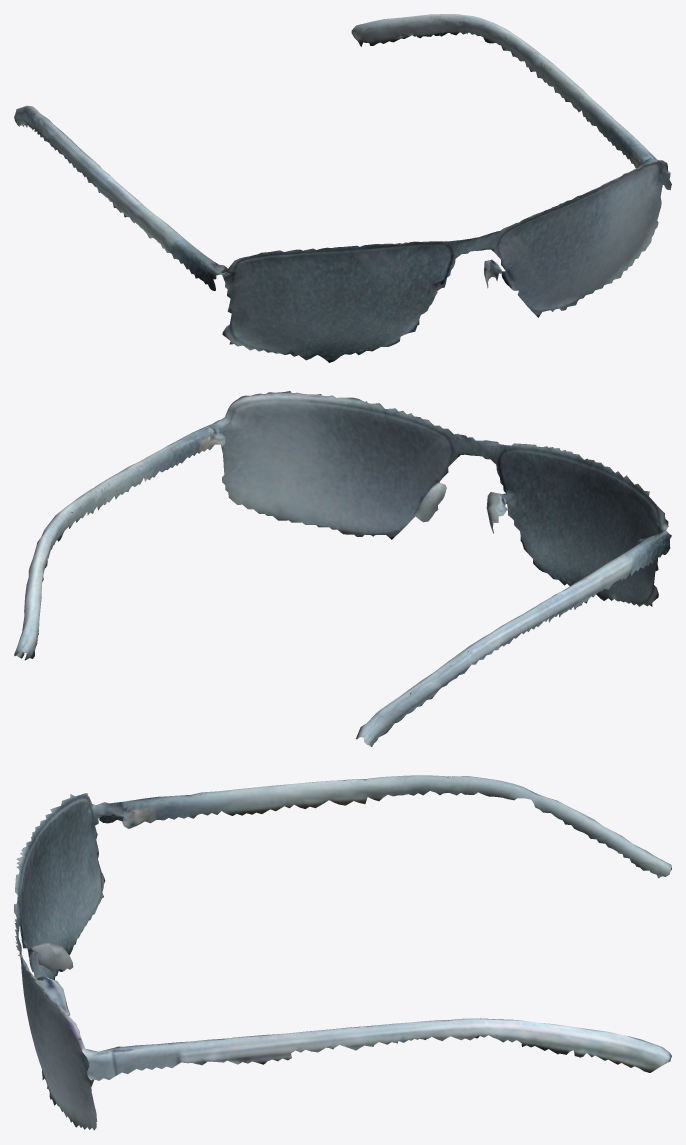
File: scan_align.obj
3 renders of one model, top to bottom at view 1: azimuth 30°, elevation 25°; view 2: azimuth 150°, elevation 25°; view 3: azimuth 270°, elevation 25°, orthographic. The views are drawn at different scales.
Size of the model in its own units: 0.1444 by 0.0376 by 0.1564.
1 material, 1 textured.
